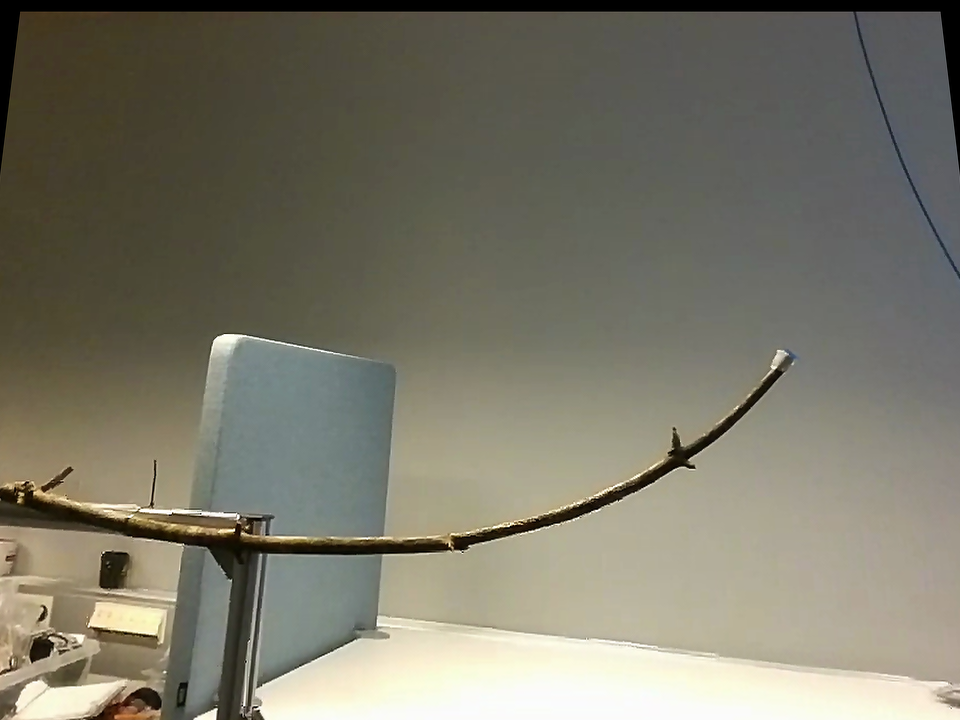branch: (286, 329, 766, 589), (352, 320, 812, 569)
